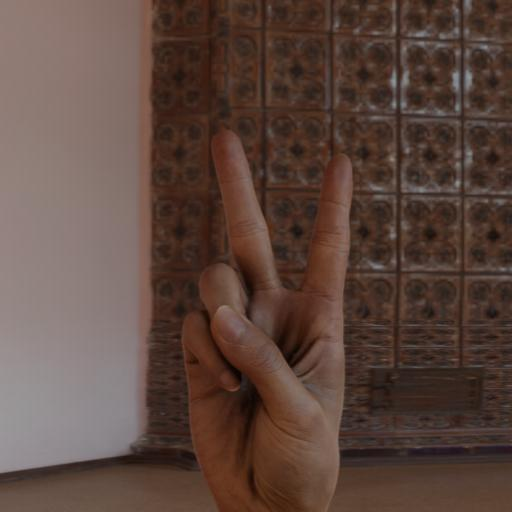V: (174, 73, 391, 496)
